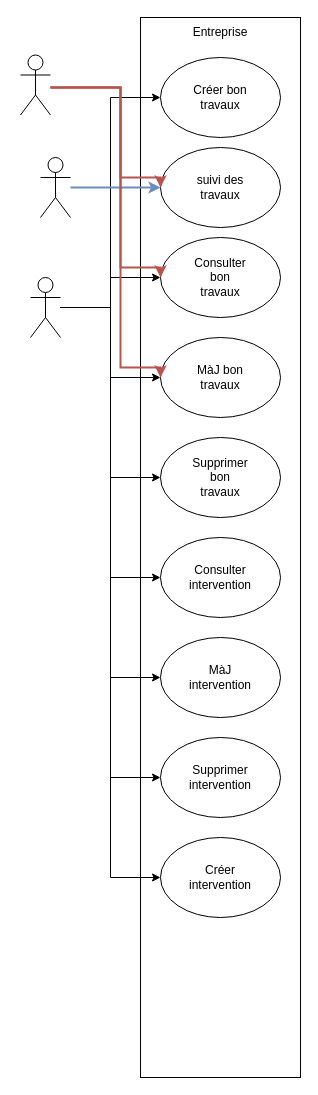
Image size: 318x1095. Some labels were removed from this diagram. The centre of each missing label's shape, as x and y in pixels:
"Agent" belongs at pixel 35 84.
"demandeur" belongs at pixel 55 187.
"secréteriat" belongs at pixel 45 307.
